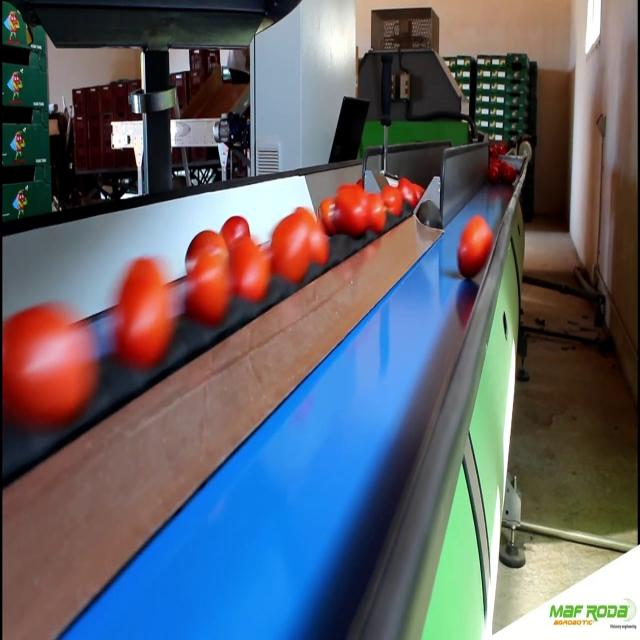Tomato: (2, 307, 98, 424), (115, 257, 171, 361), (268, 216, 310, 281), (451, 218, 496, 278), (225, 240, 269, 300), (190, 255, 227, 321), (331, 185, 368, 240), (183, 228, 227, 268), (364, 192, 388, 236), (222, 214, 249, 247), (394, 177, 420, 208), (378, 188, 405, 216), (489, 160, 502, 186), (503, 164, 514, 181)
